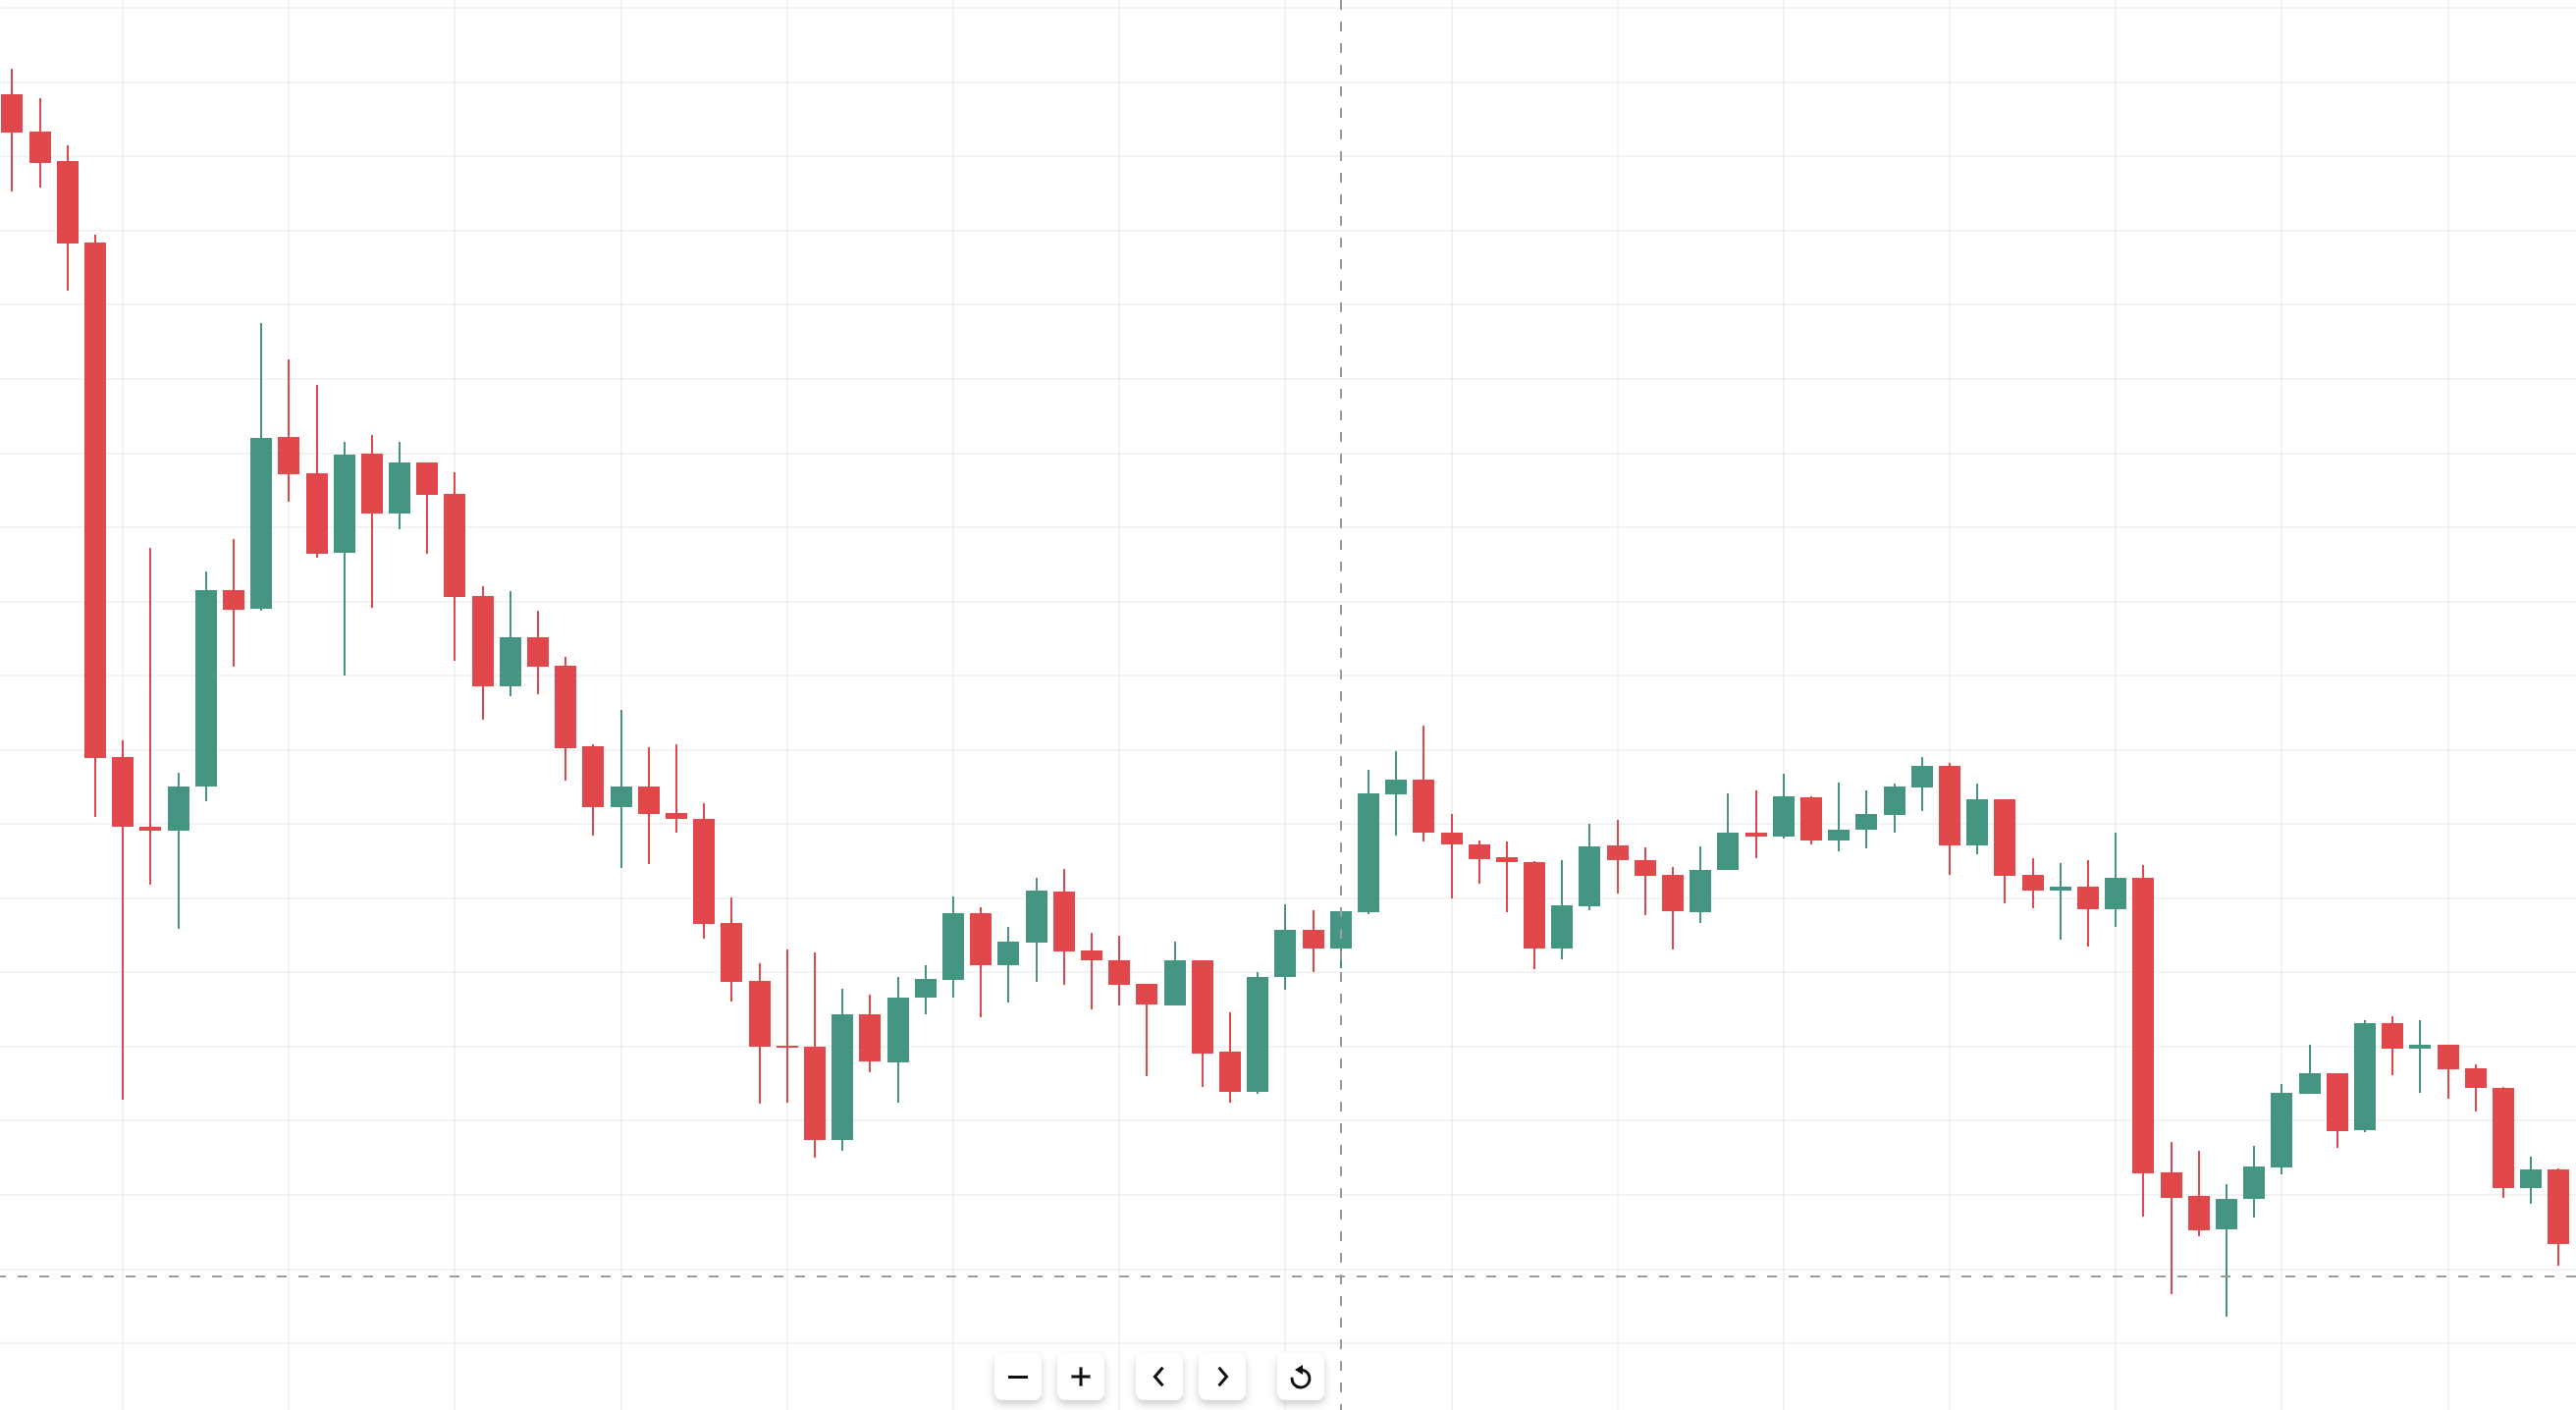V-turn: (542, 571, 963, 1195)
